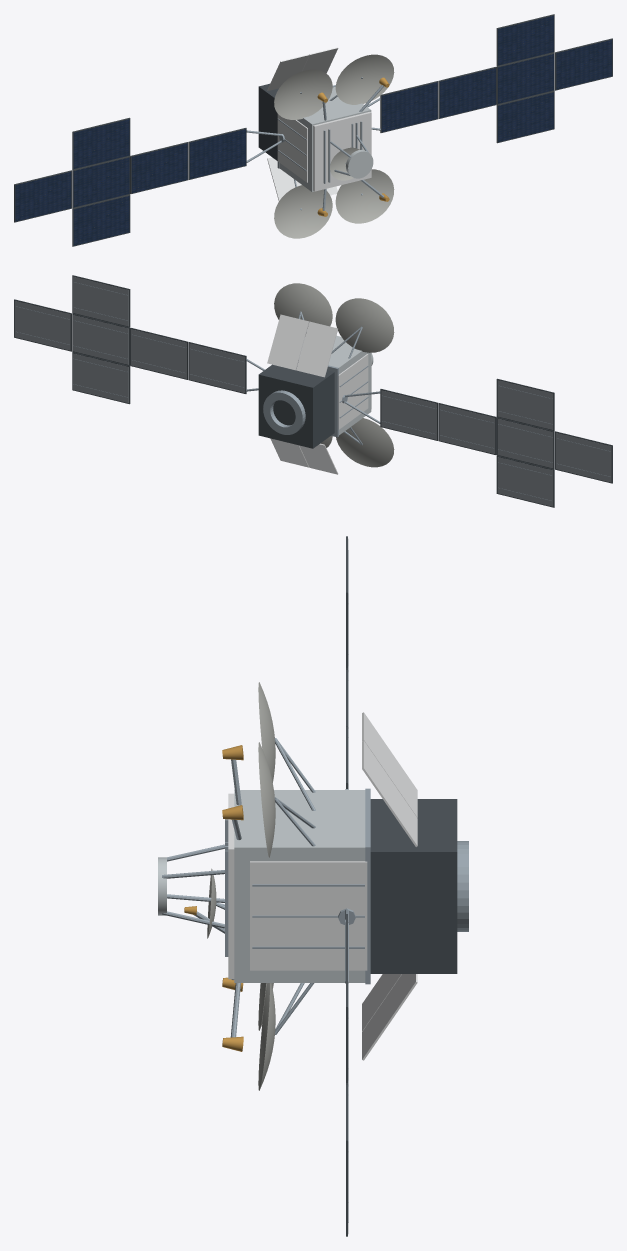
File: SSL_1300.glb
3 renders of one model, top to bottom at view 1: azimuth 30°, elevation 25°; view 2: azimuth 150°, elevation 25°; view 3: azimuth 270°, elevation 25°, orthographic. The views are drawn at different scales.
Parts seen in each view (by area): view 1: Solar cell panel (×12), Communications reflector (×4), Earth-facing deck, Deployed radiator leaf (×3), Solar panel frame (×5), Payload module, Radiator face, Service module, Antenna tower platform, Deck-mounted reflector; view 2: Rear array substrate (×12), Communications reflector (×3), Service module, Deployed radiator leaf (×4), Solar panel frame (×6), Radiator face, Payload module, Launch adapter ring, Module interface; view 3: Service module, Radiator face, Payload module, Deployed radiator leaf (×3), Communications reflector (×3), Earth-facing deck, Launch adapter ring, Module interface.
Boxes of the visible parts, x1,y1,x2,y2 form: Solar cell panel (×12): (15,15,612,245); Communications reflector (×4): (274,54,394,238); Earth-facing deck: (313,112,371,191); Deployed radiator leaf (×3): (267,47,338,200); Solar panel frame (×5): (72,81,438,246); Payload module: (279,87,371,191); Radiator face: (277,114,307,182); Service module: (258,83,278,160); Antenna tower platform: (346,149,373,178); Deck-mounted reflector: (330,147,359,180); Rear array substrate (×12): (14,276,611,506); Communications reflector (×3): (274,283,394,467); Service module: (258,364,334,448); Deployed radiator leaf (×4): (267,314,338,474); Solar panel frame (×6): (188,342,554,507); Radiator face: (338,354,368,429); Payload module: (299,335,371,435); Launch adapter ring: (263,390,305,434); Module interface: (298,360,338,437); Service module: (370,799,457,973); Radiator face: (250,861,367,970); Payload module: (234,790,365,982); Deployed radiator leaf (×3): (362,712,417,1060); Communications reflector (×3): (258,682,275,1090); Earth-facing deck: (228,793,234,979); Launch adapter ring: (457,841,468,931); Module interface: (365,788,370,984).
Size of the model in its own units: 32.37 by 8.64 by 7.29.
8 materials, 1 textured.
